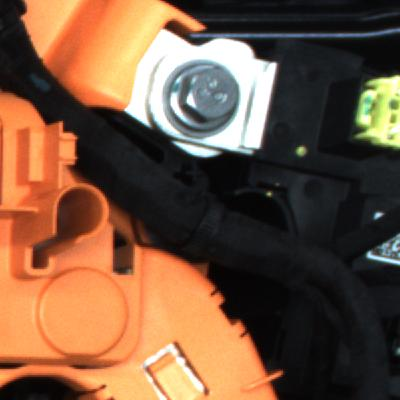nut_b: (163, 50, 271, 143)
